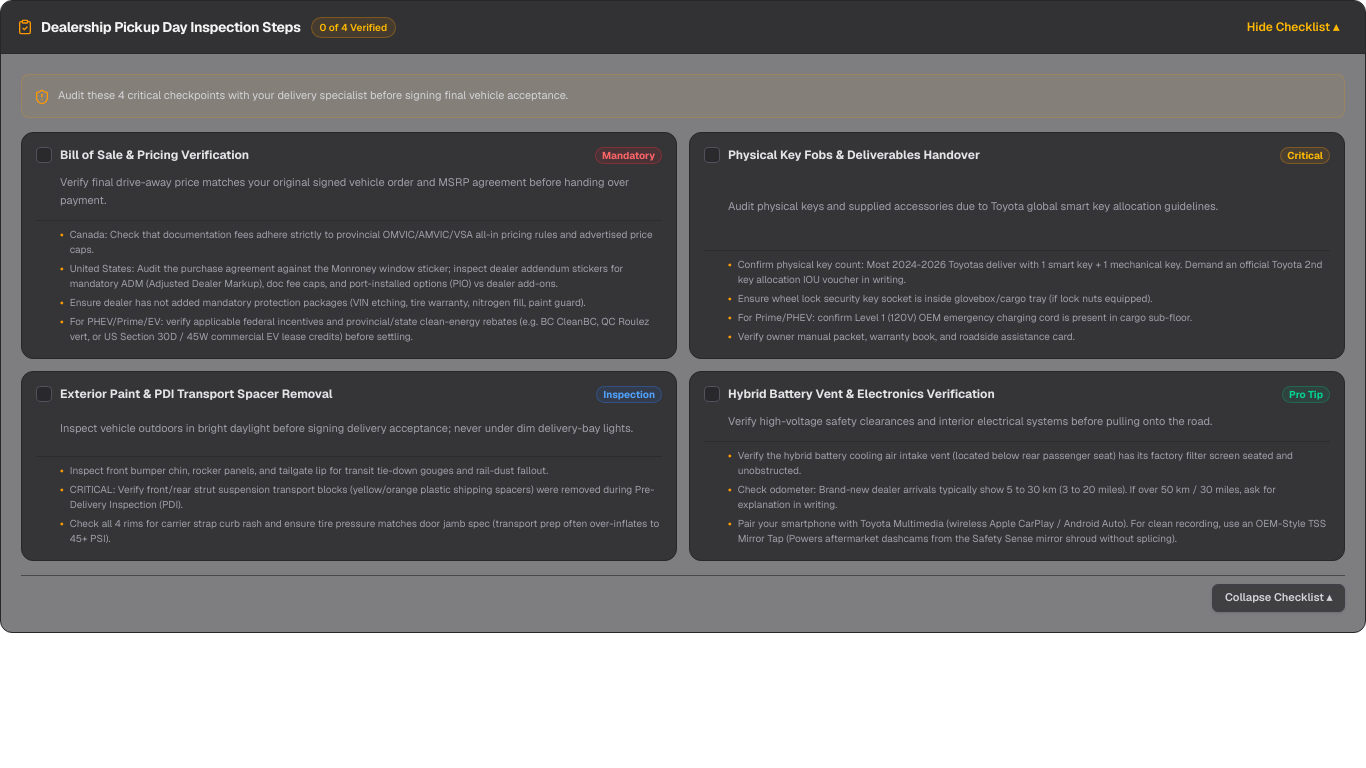
Scenario: PickupChecklist Component › toggles check items and updates verified count
This screenshot has width=1366, height=768.
Expected: the text "0 of 4 Verified" is shown, x1=311 y1=16 x2=396 y2=38
Click Bill of Sale
Click the text "Bill of Sale & Pricing Verification". click: (155, 155)
box: x1=60 y1=147 x2=249 y2=164
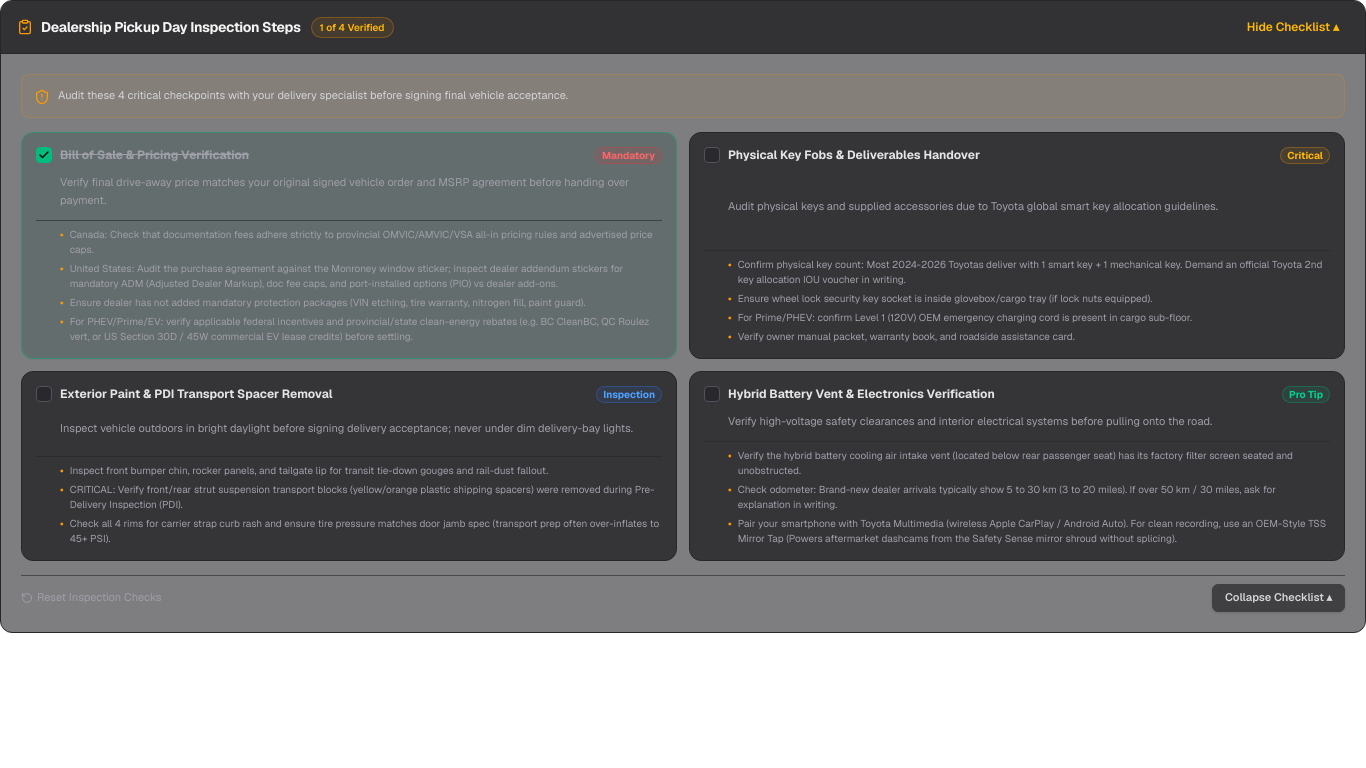
Result: the text "1 of 4 Verified" is shown at x1=311 y1=16 x2=394 y2=38
Click Reset Inspection Checks
Click the button "Reset Inspection Checks". click: (91, 598)
box: x1=21 y1=590 x2=162 y2=605
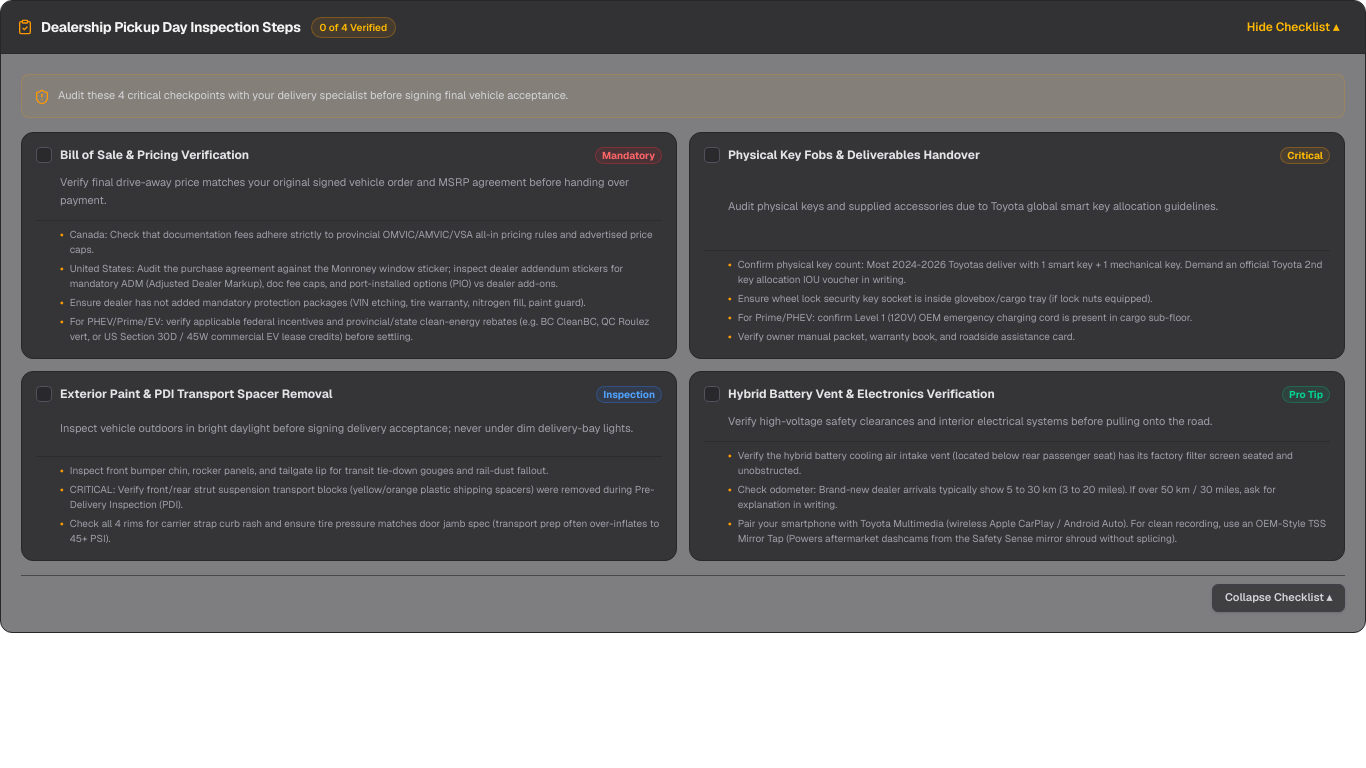
Result: the text "0 of 4 Verified" is shown at x1=311 y1=16 x2=396 y2=38
